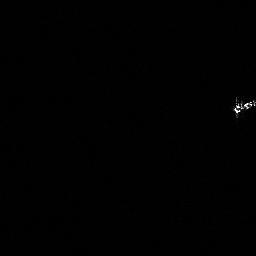ship: (231, 97, 256, 119)
